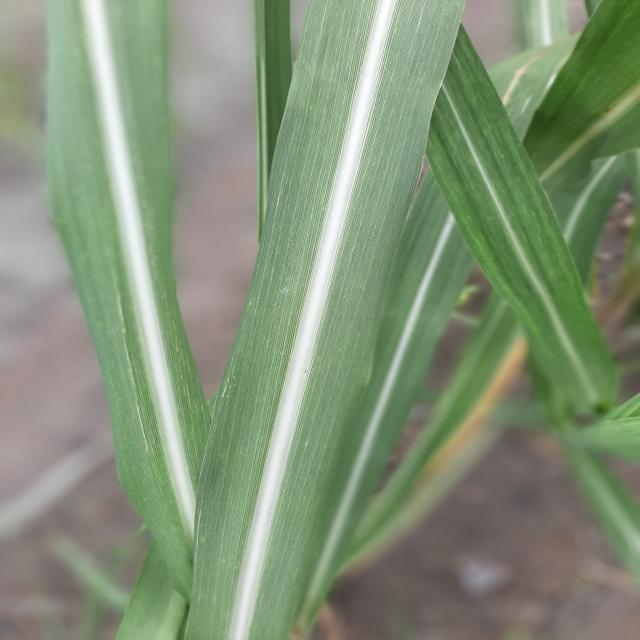Sugarcane: (40, 1, 638, 638)
